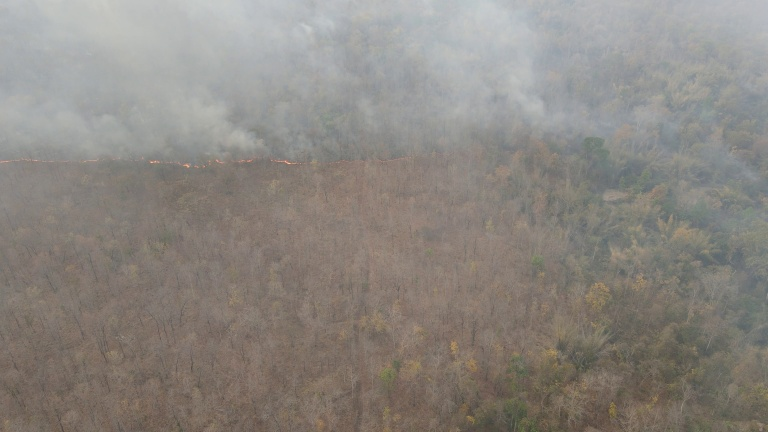fire: (1, 147, 456, 170)
smoke: (2, 1, 577, 159), (580, 1, 765, 205)
